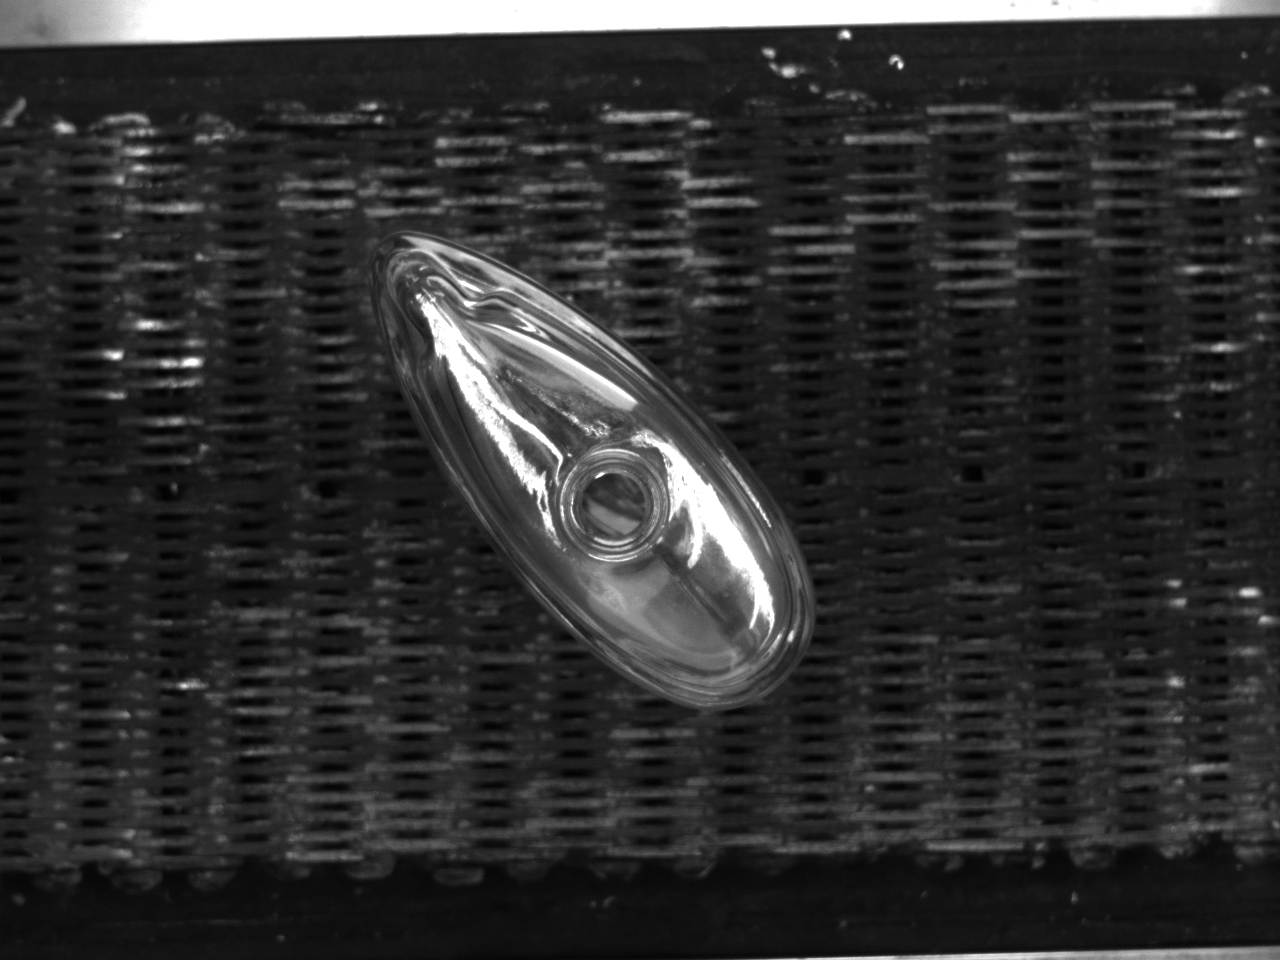bottleneck: (558, 448, 670, 561)
